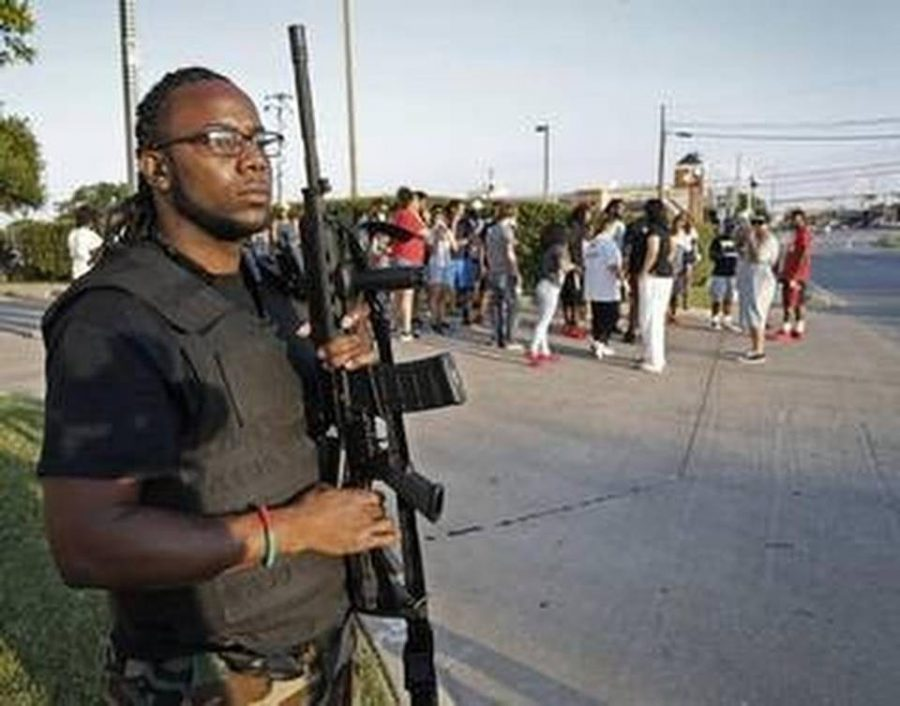Rifle: (280, 17, 469, 623)
